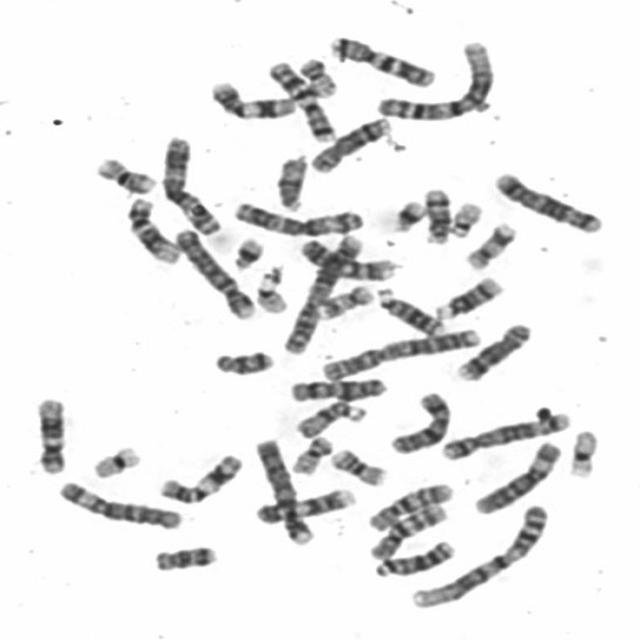A1: (408, 501, 552, 610), (373, 36, 498, 123)
A2: (278, 231, 364, 356), (317, 324, 482, 382)
A3: (157, 132, 223, 235), (229, 198, 365, 238)
B4: (171, 225, 257, 322), (251, 435, 316, 547)
B5: (436, 406, 572, 462), (490, 168, 605, 234)
C10: (365, 499, 448, 561), (363, 480, 454, 533)
C11: (156, 450, 244, 506), (206, 78, 297, 121)
C12: (122, 194, 180, 264), (31, 395, 68, 475)
C6: (469, 438, 563, 515), (53, 477, 184, 530)
C7: (263, 57, 337, 144), (326, 33, 438, 89)
C8: (306, 114, 392, 174), (452, 320, 532, 382)
C9: (251, 484, 357, 526), (301, 240, 404, 282)
D13: (374, 284, 446, 338), (369, 537, 457, 578)
D14: (432, 273, 504, 321), (420, 185, 452, 245)
D15: (291, 398, 368, 438), (272, 152, 309, 212)
E16: (92, 152, 158, 195), (328, 446, 388, 488)
E17: (461, 219, 517, 272), (316, 282, 376, 320)
E18: (150, 542, 219, 572), (210, 347, 274, 377)
F19: (89, 442, 142, 480), (564, 426, 600, 479)
F20: (287, 433, 336, 476), (295, 54, 338, 100)
G21: (386, 196, 428, 234), (230, 234, 265, 271)
G22: (252, 268, 289, 315), (444, 198, 484, 240)
X: (386, 388, 452, 455), (286, 375, 388, 402)
